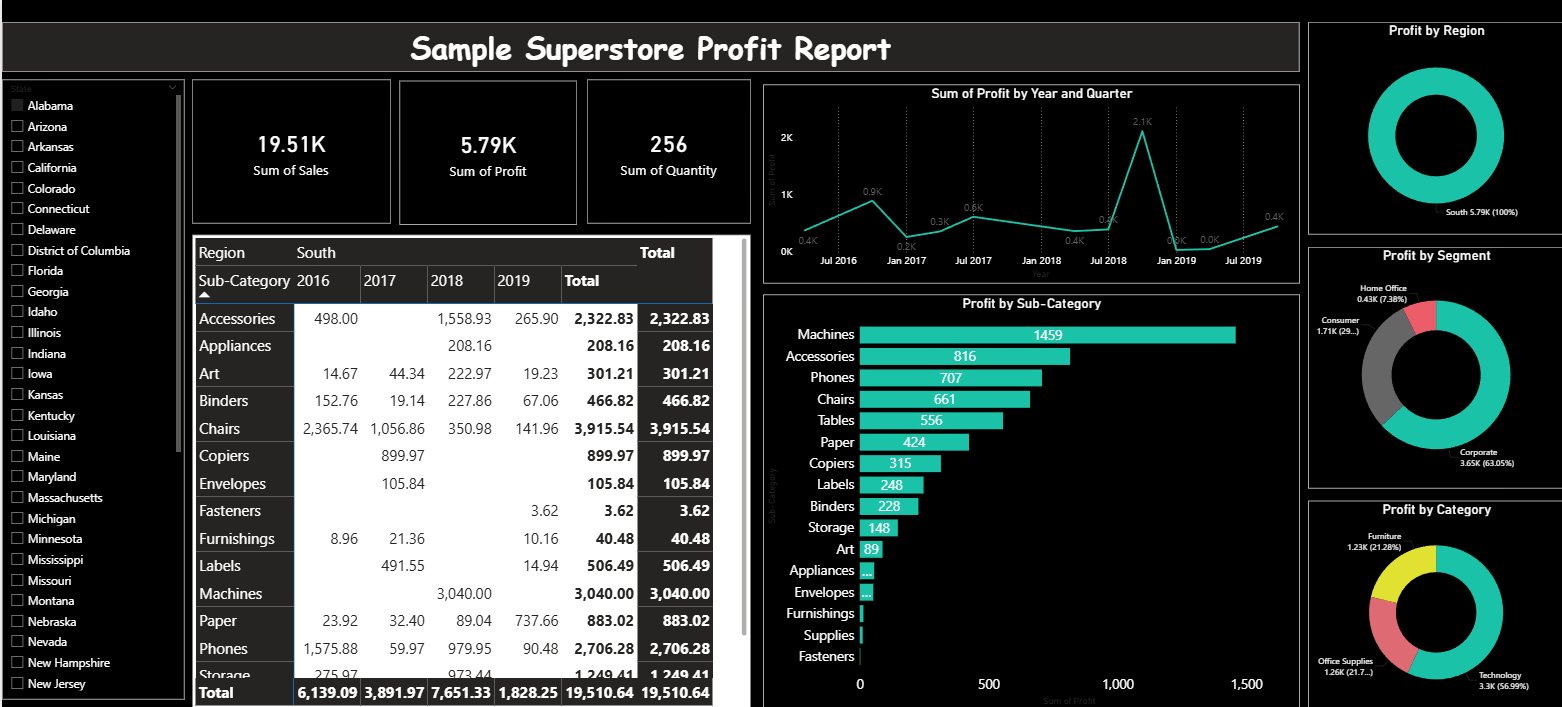

This screenshot's page, from the dashboard's own definition file:
{"tool":"powerbi","page":{"name":"r1","canvas":[2500,1100],"ordinal":20},"visuals":[{"type":"textbox","box":[0,0,2076,80],"z":0},{"type":"donutChart","title":" Profit by Category","fields":{"Category":["Orders.Category"],"Y":["Sum(Orders.Profit)"]},"box":[2090,766,410,334],"z":1000},{"type":"donutChart","title":" Profit by Segment","fields":{"Y":["Sum(Orders.Profit)"],"Category":["Orders.Segment"]},"box":[2090,360,410,386],"z":2000},{"type":"donutChart","title":" Profit by Region","fields":{"Y":["Sum(Orders.Profit)"],"Category":["Orders.Region"]},"box":[2090,0,410,340],"z":3000},{"type":"barChart","title":"Profit by Sub-Category","fields":{"Category":["Orders.Sub-Category"],"Y":["Sum(Orders.Profit)"]},"box":[1218,436,858,664],"z":4000},{"type":"lineChart","fields":{"Category":["Orders.Order Date.Variation.Date Hierarchy.Year","Orders.Order Date.Variation.Date Hierarchy.Quarter","Orders.Order Date.Variation.Date Hierarchy.Month","Orders.Order Date.Variation.Date Hierarchy.Day"],"Y":["Sum(Orders.Profit)"]},"box":[1218,100,858,318],"z":5000},{"type":"slicer","fields":{"Values":["Orders.State"]},"box":[0,92,292,992],"z":6000},{"type":"pivotTable","fields":{"Rows":["Orders.Sub-Category"],"Columns":["Orders.Region","Orders.Order Date.Variation.Date Hierarchy.Year","Orders.Order Date.Variation.Date Hierarchy.Quarter","Orders.Order Date.Variation.Date Hierarchy.Month","Orders.Order Date.Variation.Date Hierarchy.Day"],"Values":["Sum(Orders.Sales)"]},"box":[304,340,894,760],"z":7000},{"type":"card","fields":{"Values":["Sum(Orders.Sales)"]},"box":[304,92,318,230],"z":8000},{"type":"card","fields":{"Values":["Sum(Orders.Profit)"]},"box":[636,94,284,230],"z":9000},{"type":"card","fields":{"Values":["Sum(Orders.Quantity)"]},"box":[936,92,262,230],"z":10000}]}

Visuals, with their boxes in screenshot pixels (x1, y1, x2, y2), scaled from the page's 2500x1100 canvas onto the 1562x707 screenshot:
textbox: <bbox>0, 0, 1297, 51</bbox>
" Profit by Category" donutChart: <bbox>1306, 492, 1561, 706</bbox>
" Profit by Segment" donutChart: <bbox>1306, 231, 1561, 479</bbox>
" Profit by Region" donutChart: <bbox>1306, 0, 1561, 219</bbox>
"Profit by Sub-Category" barChart: <bbox>761, 280, 1297, 706</bbox>
lineChart - Orders.Order Date.Variation.Date Hierarchy.Year x Orders.Order Date.Variation.Date Hierarchy.Quarter: <bbox>761, 64, 1297, 269</bbox>
slicer - Orders.State: <bbox>0, 59, 182, 697</bbox>
pivotTable - Orders.Sub-Category x Orders.Region: <bbox>190, 219, 749, 706</bbox>
card - Sum(Orders.Sales): <bbox>190, 59, 389, 207</bbox>
card - Sum(Orders.Profit): <bbox>397, 60, 575, 208</bbox>
card - Sum(Orders.Quantity): <bbox>585, 59, 749, 207</bbox>
